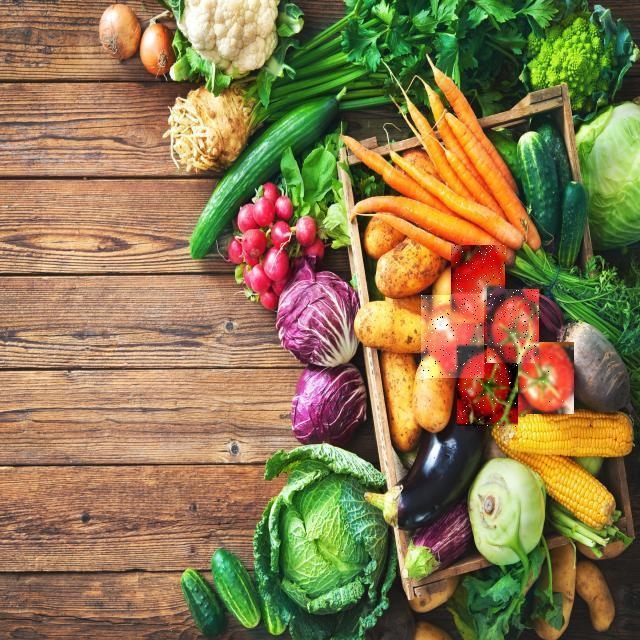Tomatoes: (421, 295, 484, 378), (457, 346, 518, 428), (451, 246, 505, 324), (518, 342, 574, 414), (487, 289, 539, 363)
